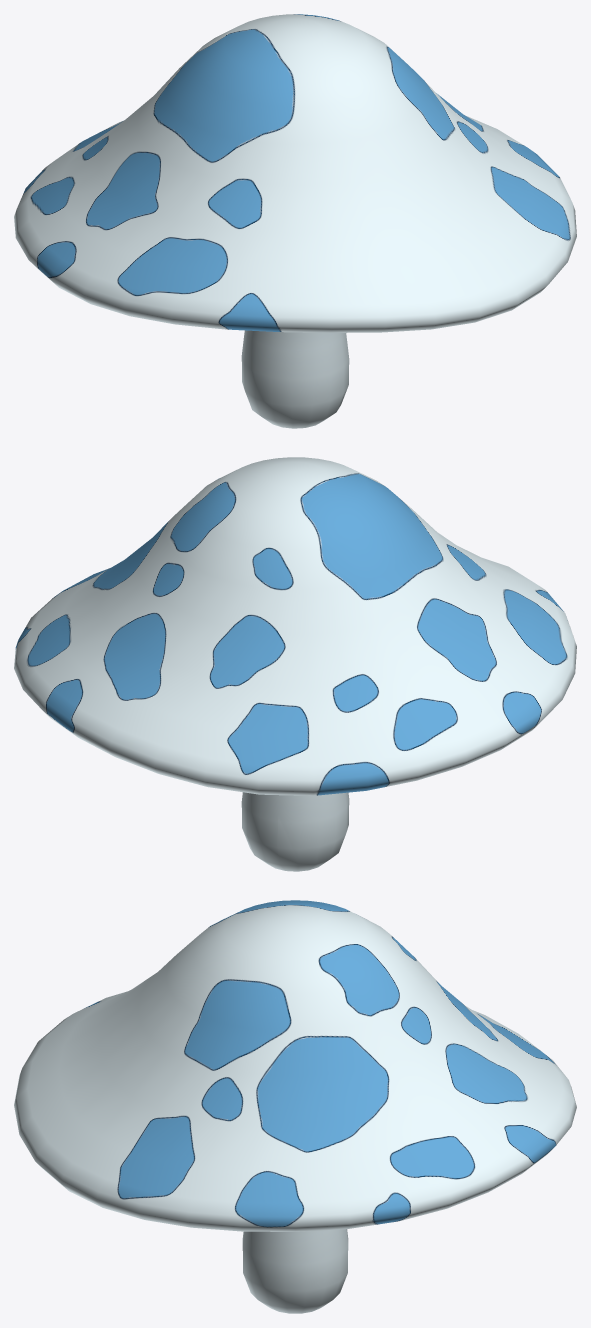
The model's file is Leonard_smooth.fbx.
The picture shows the model from 3 angles, top to bottom: view 1: azimuth 30°, elevation 25°; view 2: azimuth 150°, elevation 25°; view 3: azimuth 270°, elevation 25°; orthographic projection.
Parts seen in each view (by area): view 1: Leonard; view 2: Leonard; view 3: Leonard.
Part boxes in pixels (x1,y1,x2,y2): Leonard: (14,14,576,428); Leonard: (14,457,576,871); Leonard: (14,900,576,1313).
Size of the model in its own units: 17.52 by 13.45 by 17.52.
1 material, 1 textured.
